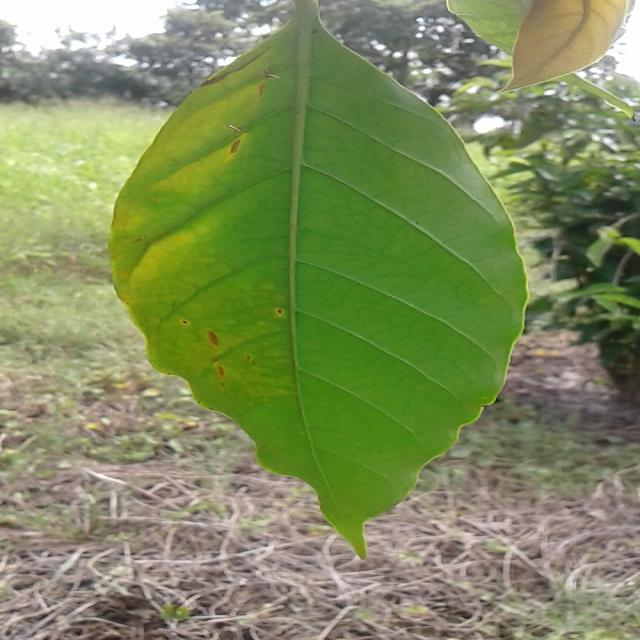Enfermedad-Roya: (106, 0, 528, 560)
